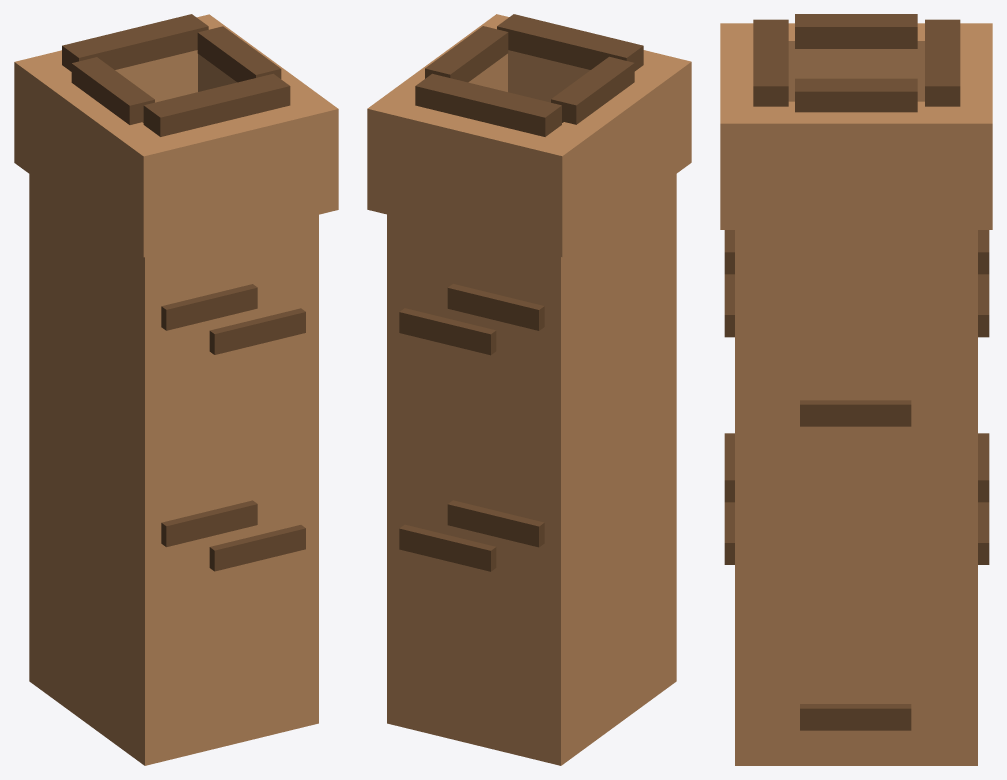
The model's file is Park_Fence_B.fbx.
The picture shows the model from 3 angles, left to right: view 1: azimuth 30°, elevation 25°; view 2: azimuth 150°, elevation 25°; view 3: azimuth 270°, elevation 25°; orthographic projection. The views are drawn at different scales.
Visible parts, largest first — view 1: Park_Fence_B; view 2: Park_Fence_B; view 3: Park_Fence_B.
Part boxes in pixels (x1,y1,x2,y2): Park_Fence_B: (14, 14, 338, 765); Park_Fence_B: (367, 14, 691, 765); Park_Fence_B: (720, 14, 992, 765).
Bounding box in the file's own units: 56.58 × 176 × 64.95.
